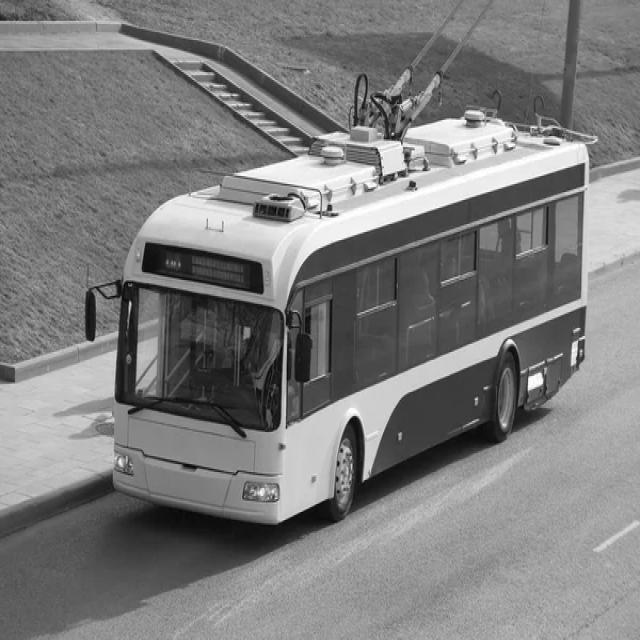Bus: (104, 98, 597, 535)
